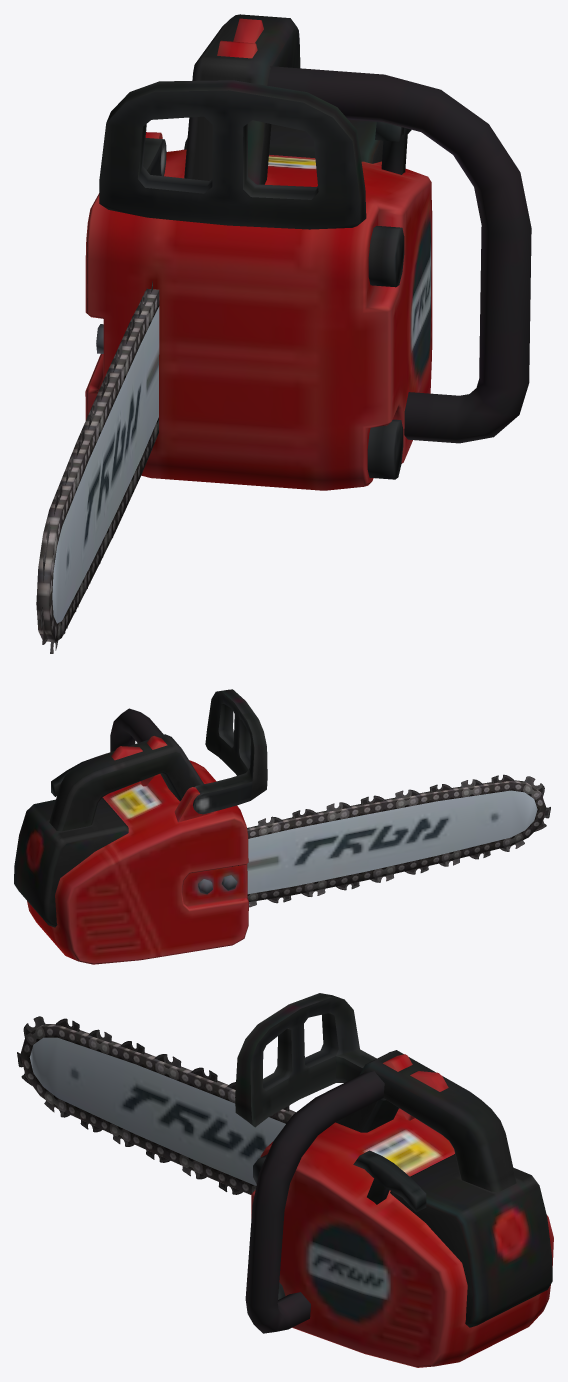
3 renders of one model, top to bottom at view 1: azimuth 30°, elevation 25°; view 2: azimuth 150°, elevation 25°; view 3: azimuth 270°, elevation 25°, orthographic. The views are drawn at different scales.
Bounding box in the file's own units: 9.49 × 5.29 × 9.49.
2 materials, 2 textured.
